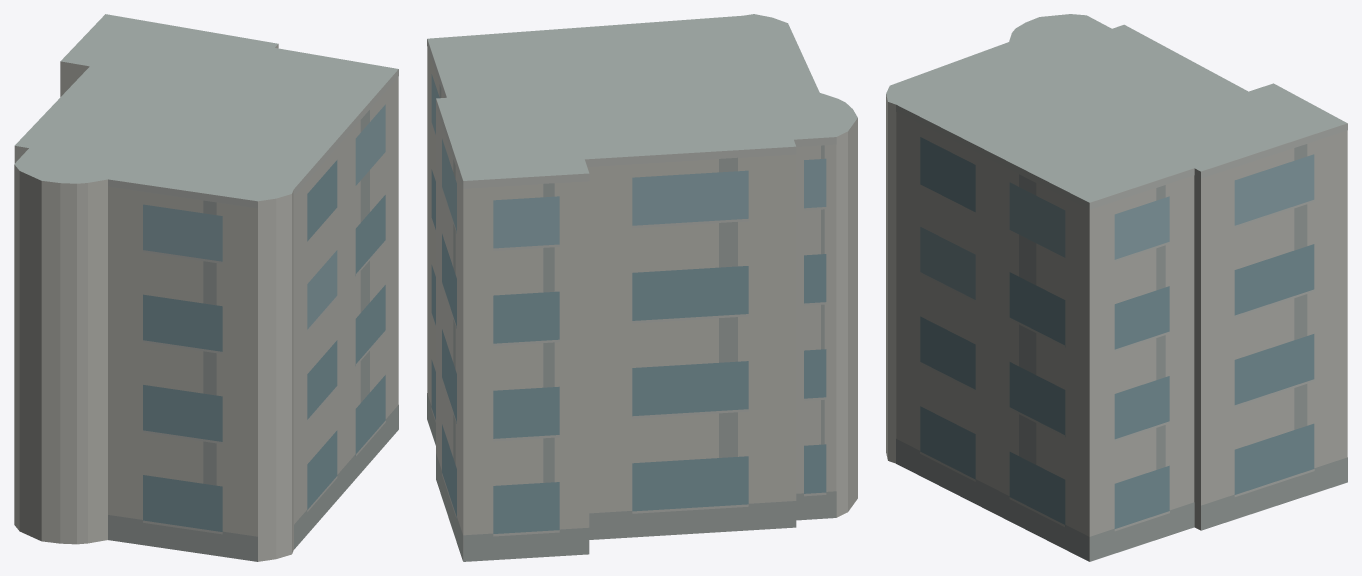
The model's file is residential-29ec44bb-fed6-44a4-9dbe-2655b7e6f22e.glb.
3 views of the same model, side by side, from view 1: azimuth 30°, elevation 25°; view 2: azimuth 150°, elevation 25°; view 3: azimuth 270°, elevation 25° (orthographic). The views are drawn at different scales.
Parts seen in each view (by area): view 1: residential-29ec44bb-fed6-44a4-9dbe-2655b7e6f22e.tmp; view 2: residential-29ec44bb-fed6-44a4-9dbe-2655b7e6f22e.tmp; view 3: residential-29ec44bb-fed6-44a4-9dbe-2655b7e6f22e.tmp.
Boxes of the visible parts, x1,y1,x2,y2 form: residential-29ec44bb-fed6-44a4-9dbe-2655b7e6f22e.tmp: (14,14,398,561); residential-29ec44bb-fed6-44a4-9dbe-2655b7e6f22e.tmp: (427,14,857,561); residential-29ec44bb-fed6-44a4-9dbe-2655b7e6f22e.tmp: (886,14,1347,561).
Size of the model in its own units: 13.77 by 12.2 by 14.22.
